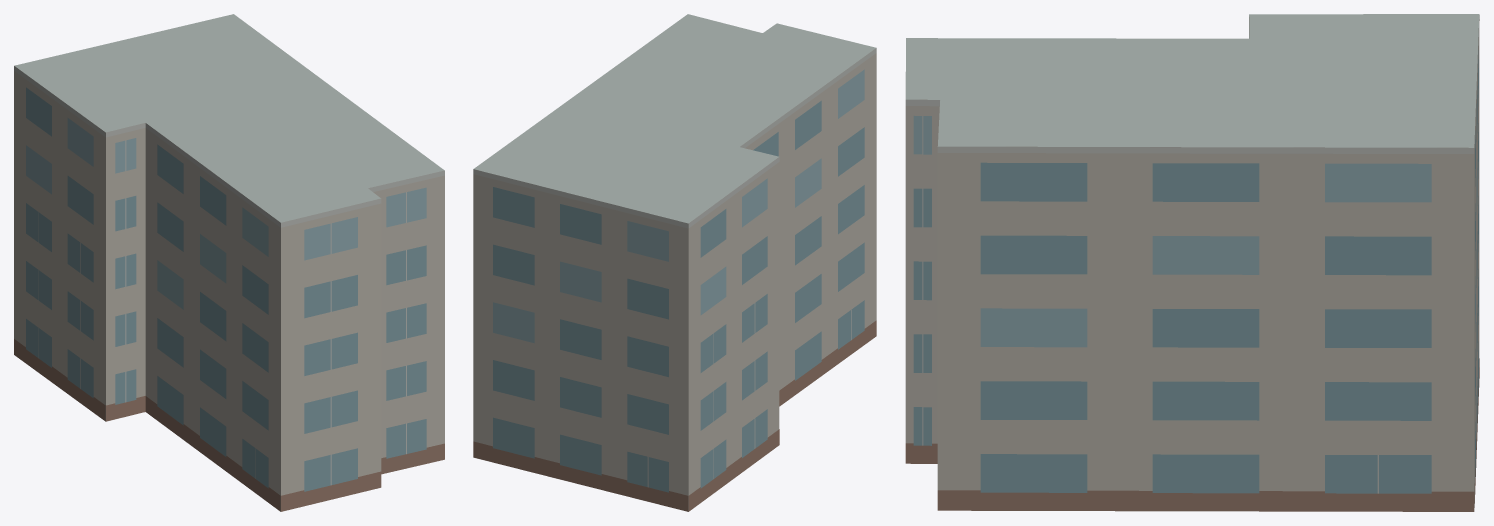
The model's file is survey-upis-32713481.glb.
3 views of the same model, side by side, from view 1: azimuth 30°, elevation 25°; view 2: azimuth 150°, elevation 25°; view 3: azimuth 270°, elevation 25° (orthographic). The views are drawn at different scales.
Visible parts, largest first — view 1: survey-upis-32713481.tmp; view 2: survey-upis-32713481.tmp; view 3: survey-upis-32713481.tmp.
Boxes of the visible parts, x1,y1,x2,y2 form: survey-upis-32713481.tmp: (14, 14, 444, 511); survey-upis-32713481.tmp: (473, 14, 876, 511); survey-upis-32713481.tmp: (905, 14, 1479, 511).
Bounding box in the file's own units: 11.04 × 14 × 20.01.
